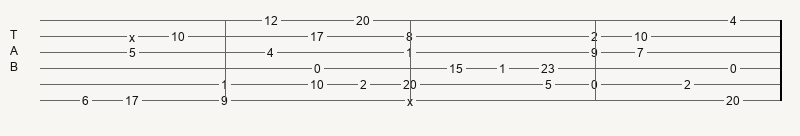0: (314, 62, 325, 75), (591, 78, 602, 91), (730, 62, 741, 75)
1: (221, 78, 232, 91), (406, 46, 417, 59), (499, 62, 510, 75)
10: (171, 30, 189, 43), (310, 78, 328, 91), (634, 30, 652, 43)
12: (264, 14, 282, 27)
15: (449, 62, 467, 75)
17: (125, 94, 143, 107), (310, 30, 328, 43)
2: (360, 78, 371, 91), (591, 30, 602, 43), (684, 78, 695, 91)
20: (356, 14, 374, 27), (403, 78, 421, 91), (726, 94, 744, 107)
23: (541, 62, 559, 75)
4: (267, 46, 278, 59), (730, 14, 741, 27)
5: (129, 46, 140, 59), (545, 78, 556, 91)
6: (82, 94, 93, 107)
7: (637, 46, 648, 59)
8: (406, 30, 417, 43)
9: (221, 94, 232, 107), (591, 46, 602, 59)
x: (129, 31, 139, 42), (407, 95, 417, 106)
